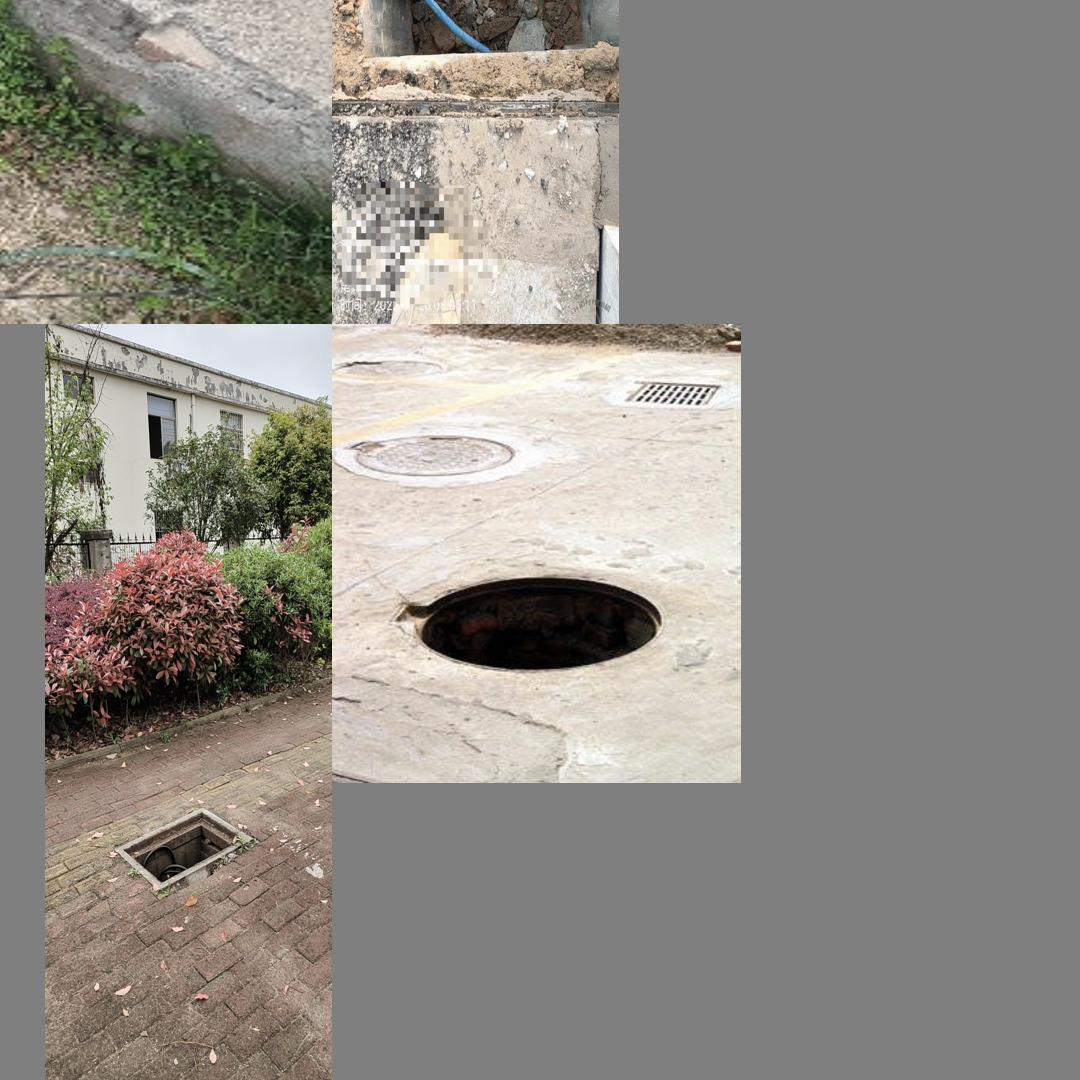lose: (335, 0, 618, 141), (395, 553, 667, 678), (104, 793, 257, 897)
